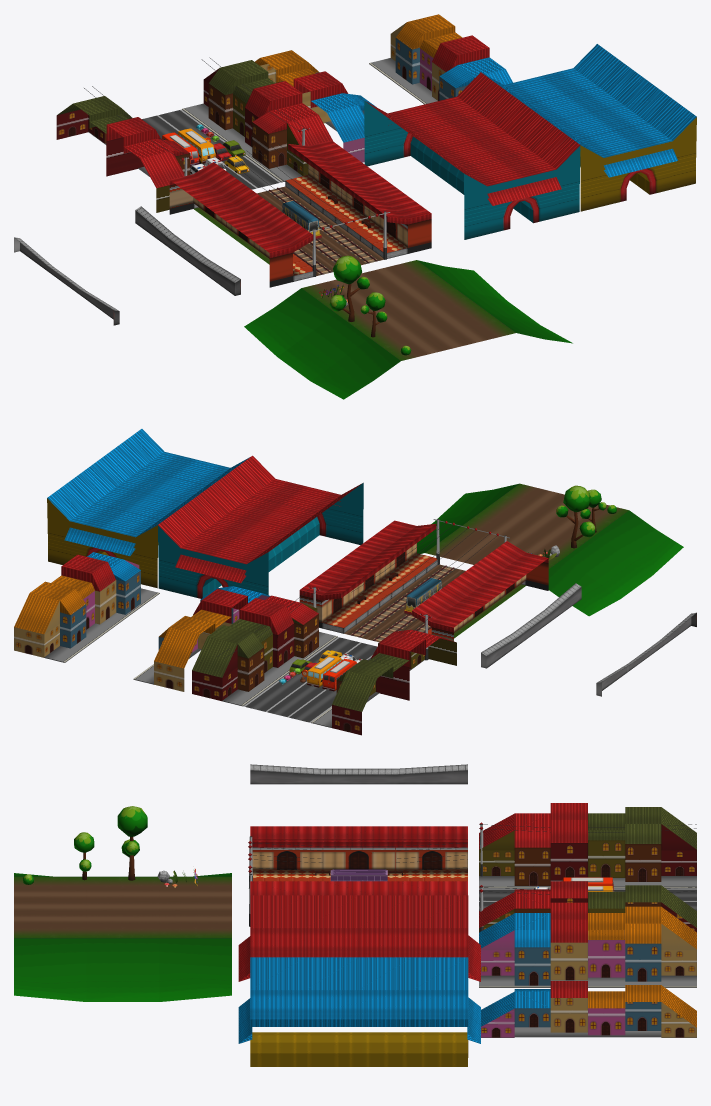
File: Assets.FBX
The picture shows the model from 3 angles, top to bottom: view 1: azimuth 30°, elevation 25°; view 2: azimuth 150°, elevation 25°; view 3: azimuth 270°, elevation 25°; orthographic projection. The views are drawn at different scales.
Parts seen in each view (by area): view 1: Tunnel, Tunnel2, Station, houses, Buildings, landSlope, Sand, Track, Wall, Road, TreeBig, TrainPassenger (+1 smaller); view 2: Tunnel, houses, Tunnel2, Buildings, Station, landSlope, Sand, Track, Road, Wall, TreeBig, TrainPassenger (+2 smaller); view 3: Buildings, Tunnel2, houses, Tunnel, Station, landSlope, Sand, Wall, Road, TreeBig, Track, TrainGoods (+1 smaller).
Part boxes in pixels (left/top/right/bottom): Tunnel: left=364, top=72, right=580, bottom=239; Tunnel2: left=482, top=44, right=696, bottom=211; Station: left=169, top=140, right=431, bottom=287; houses: left=56, top=60, right=332, bottom=212; Buildings: left=255, top=14, right=512, bottom=162; landSlope: left=244, top=260, right=572, bottom=399; Sand: left=301, top=260, right=515, bottom=360; Track: left=194, top=143, right=390, bottom=276; Wall: left=14, top=206, right=240, bottom=325; Road: left=84, top=57, right=309, bottom=189; TreeBig: left=329, top=255, right=369, bottom=321; TrainPassenger: left=282, top=201, right=321, bottom=239; Tunnel: left=158, top=456, right=363, bottom=598; houses: left=192, top=595, right=456, bottom=735; Tunnel2: left=47, top=429, right=249, bottom=588; Buildings: left=14, top=552, right=269, bottom=691; Station: left=299, top=520, right=548, bottom=641; landSlope: left=417, top=484, right=683, bottom=616; Sand: left=425, top=483, right=628, bottom=568; Track: left=344, top=519, right=525, bottom=642; Road: left=217, top=586, right=431, bottom=722; Wall: left=481, top=583, right=696, bottom=696; TreeBig: left=556, top=485, right=595, bottom=548; TrainPassenger: left=404, top=578, right=441, bottom=615; Buildings: left=479, top=902, right=696, bottom=1037; Tunnel2: left=238, top=957, right=480, bottom=1066; houses: left=479, top=803, right=696, bottom=932; Tunnel: left=238, top=895, right=480, bottom=981; Station: left=250, top=826, right=467, bottom=895; landSlope: left=14, top=873, right=231, bottom=1001; Sand: left=14, top=876, right=231, bottom=938; Wall: left=250, top=764, right=467, bottom=784; Road: left=479, top=822, right=696, bottom=931; TreeBig: left=117, top=806, right=147, bottom=880; Track: left=248, top=836, right=467, bottom=926; TrainGoods: left=330, top=869, right=387, bottom=881.
Size of the model in its own units: 1013 by 161 by 940.
